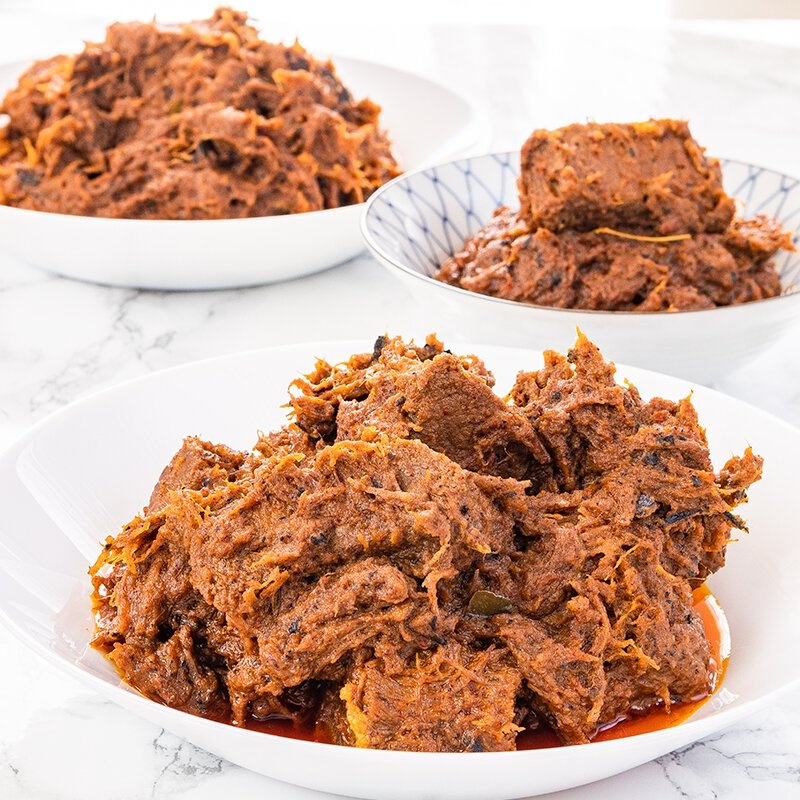rendang: (88, 333, 788, 762), (1, 6, 409, 270), (425, 108, 800, 317)
